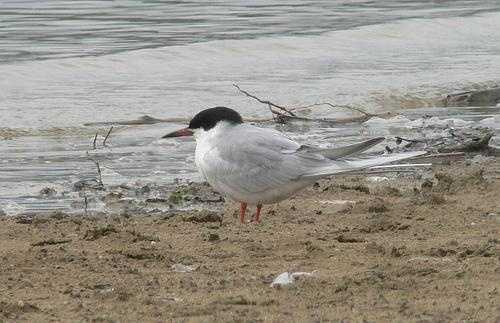bird: (158, 104, 436, 223)
